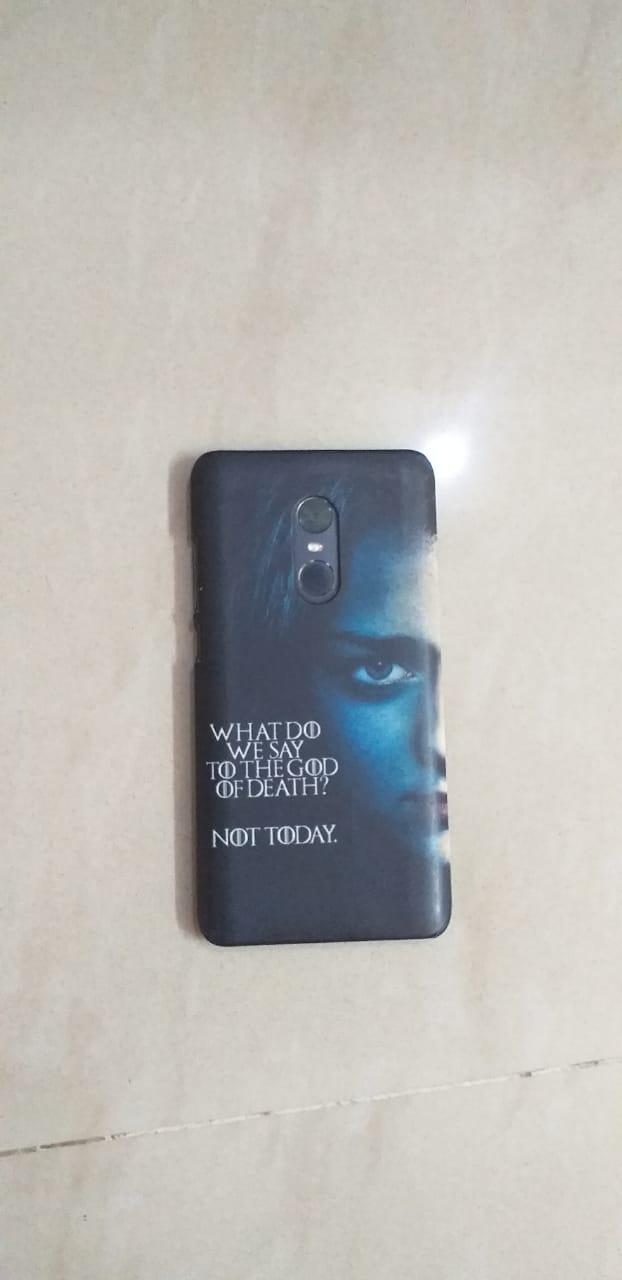Phone: (166, 431, 464, 965)
